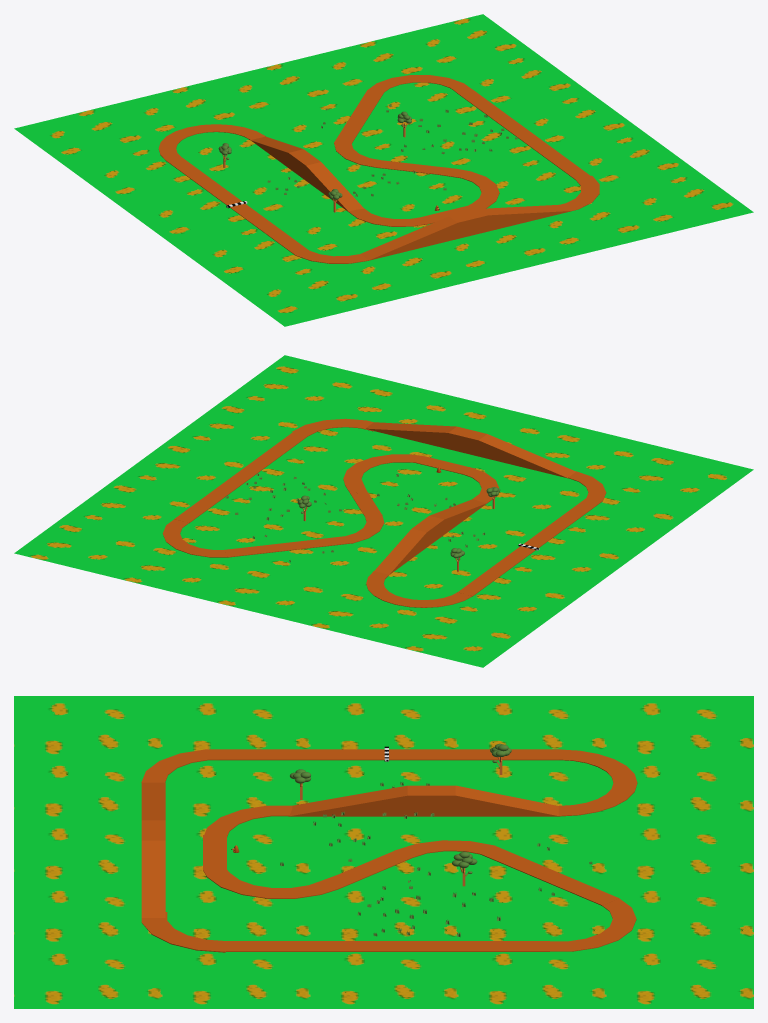
File: newSavanna.FBX
3 views of the same model, one above another, from view 1: azimuth 30°, elevation 25°; view 2: azimuth 150°, elevation 25°; view 3: azimuth 270°, elevation 25° (orthographic). The views are drawn at different scales.
Visible parts, largest first — view 1: suvannna, course002, course005, course003, course, Tube002, Tube013, course008, Tube008, Tube004, Tube010, Tube005 (+2 smaller); view 2: suvannna, course002, course005, course003, course, Tube002, course008, Tube013, Tube008, Tube005, Tube004, Tube010 (+1 smaller); view 3: suvannna, course005, course003, course, course002, Tube002, Tube013, course008, Tube008, Tube005, Tube010, Tube004 (+3 smaller).
Boxes of the visible parts, x1,y1,x2,y2 form: suvannna: (14, 14, 753, 326); course002: (360, 204, 571, 260); course005: (251, 136, 363, 211); course003: (165, 156, 302, 251); course: (457, 89, 590, 179); Tube002: (158, 124, 265, 159); Tube013: (431, 168, 499, 209); course008: (334, 90, 384, 143); Tube008: (368, 75, 471, 92); Tube004: (286, 245, 368, 263); Tube010: (348, 208, 430, 226); Tube005: (561, 175, 599, 210); suvannna: (14, 355, 753, 667); course002: (365, 422, 575, 478); course005: (374, 499, 486, 574); course003: (457, 503, 597, 596); course: (174, 432, 307, 523); Tube002: (366, 571, 472, 607); course008: (224, 536, 352, 557); Tube013: (343, 454, 423, 493); Tube008: (162, 519, 229, 557); Tube005: (292, 418, 373, 436); Tube004: (568, 471, 606, 507); Tube010: (461, 467, 498, 503); suvannna: (14, 696, 753, 1008); course005: (288, 785, 560, 816); course003: (219, 749, 561, 760); course: (225, 941, 549, 951); course002: (141, 782, 165, 917); Tube002: (558, 749, 637, 816); Tube013: (203, 869, 352, 898); course008: (480, 845, 618, 905); Tube008: (550, 898, 636, 951); Tube005: (141, 912, 225, 952); Tube010: (202, 805, 292, 838); Tube004: (141, 749, 231, 782).
Bounding box in the file's own units: 308 × 17.26 × 308.
13 materials, 13 textured.
